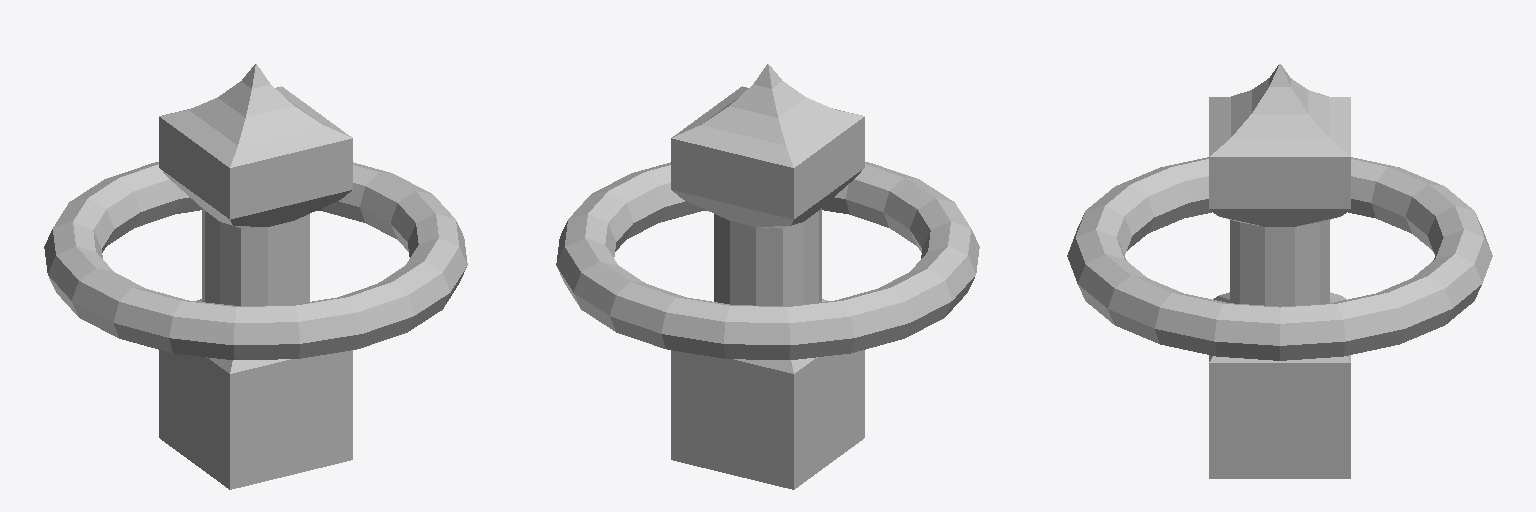
The model's file is Bar08.obj.
3 views of the same model, side by side, from view 1: azimuth 30°, elevation 25°; view 2: azimuth 150°, elevation 25°; view 3: azimuth 270°, elevation 25° (orthographic).
Visible parts, largest first — view 1: Bar08; view 2: Bar08; view 3: Bar08.
Part boxes in pixels (x1,y1,x2,y2): Bar08: (44,64,467,489); Bar08: (556,64,979,489); Bar08: (1067,64,1492,478).
Size of the model in its own units: 2 by 2 by 2.